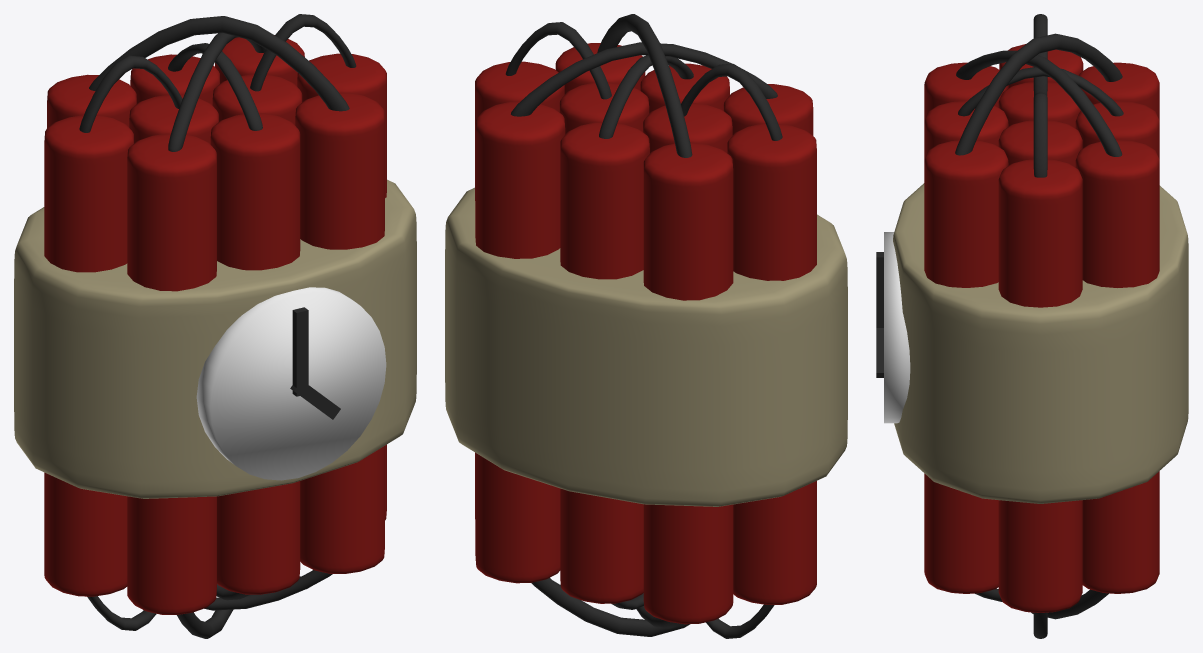
The model's file is bomb.fbx.
The picture shows the model from 3 angles, left to right: view 1: azimuth 30°, elevation 25°; view 2: azimuth 150°, elevation 25°; view 3: azimuth 270°, elevation 25°; orthographic projection. The views are drawn at different scales.
Parts seen in each view (by area): view 1: Cylinder; view 2: Cylinder; view 3: Cylinder.
Boxes of the visible parts, left/top/right/bottom form: Cylinder: left=14, top=14, right=416, bottom=638; Cylinder: left=445, top=14, right=847, bottom=638; Cylinder: left=876, top=14, right=1188, bottom=638.
Size of the model in its own units: 196 by 314 by 154.
